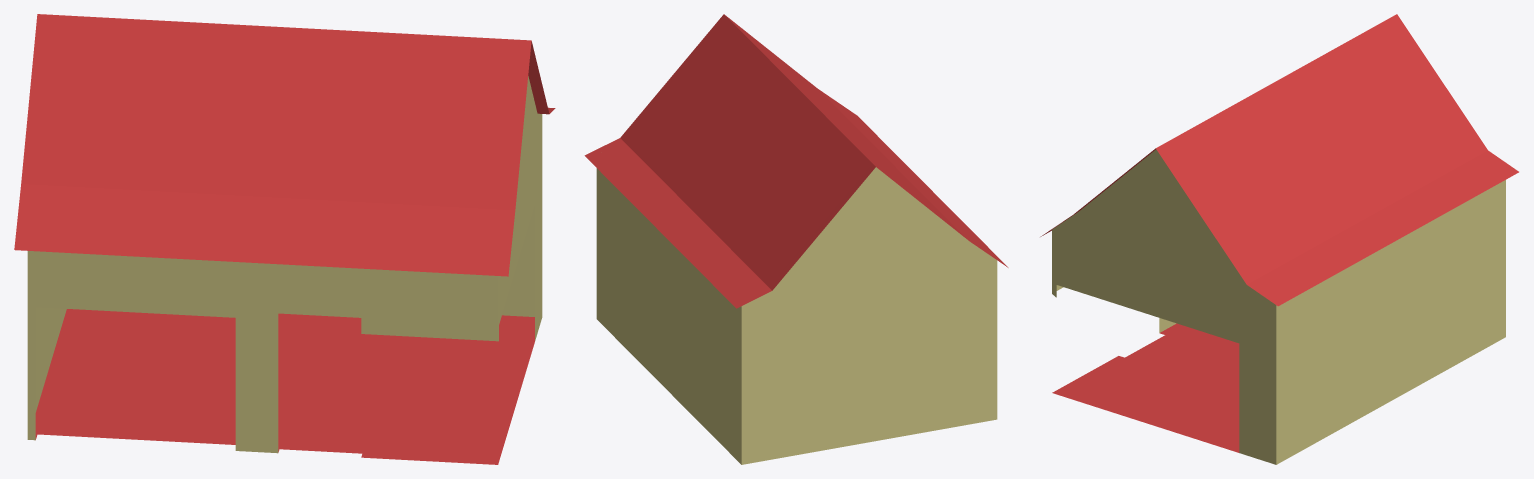
3 views of the same model, side by side, from view 1: azimuth 30°, elevation 25°; view 2: azimuth 150°, elevation 25°; view 3: azimuth 270°, elevation 25° (orthographic). The views are drawn at different scales.
Size of the model in its own units: 25.95 by 24.97 by 16.21.
